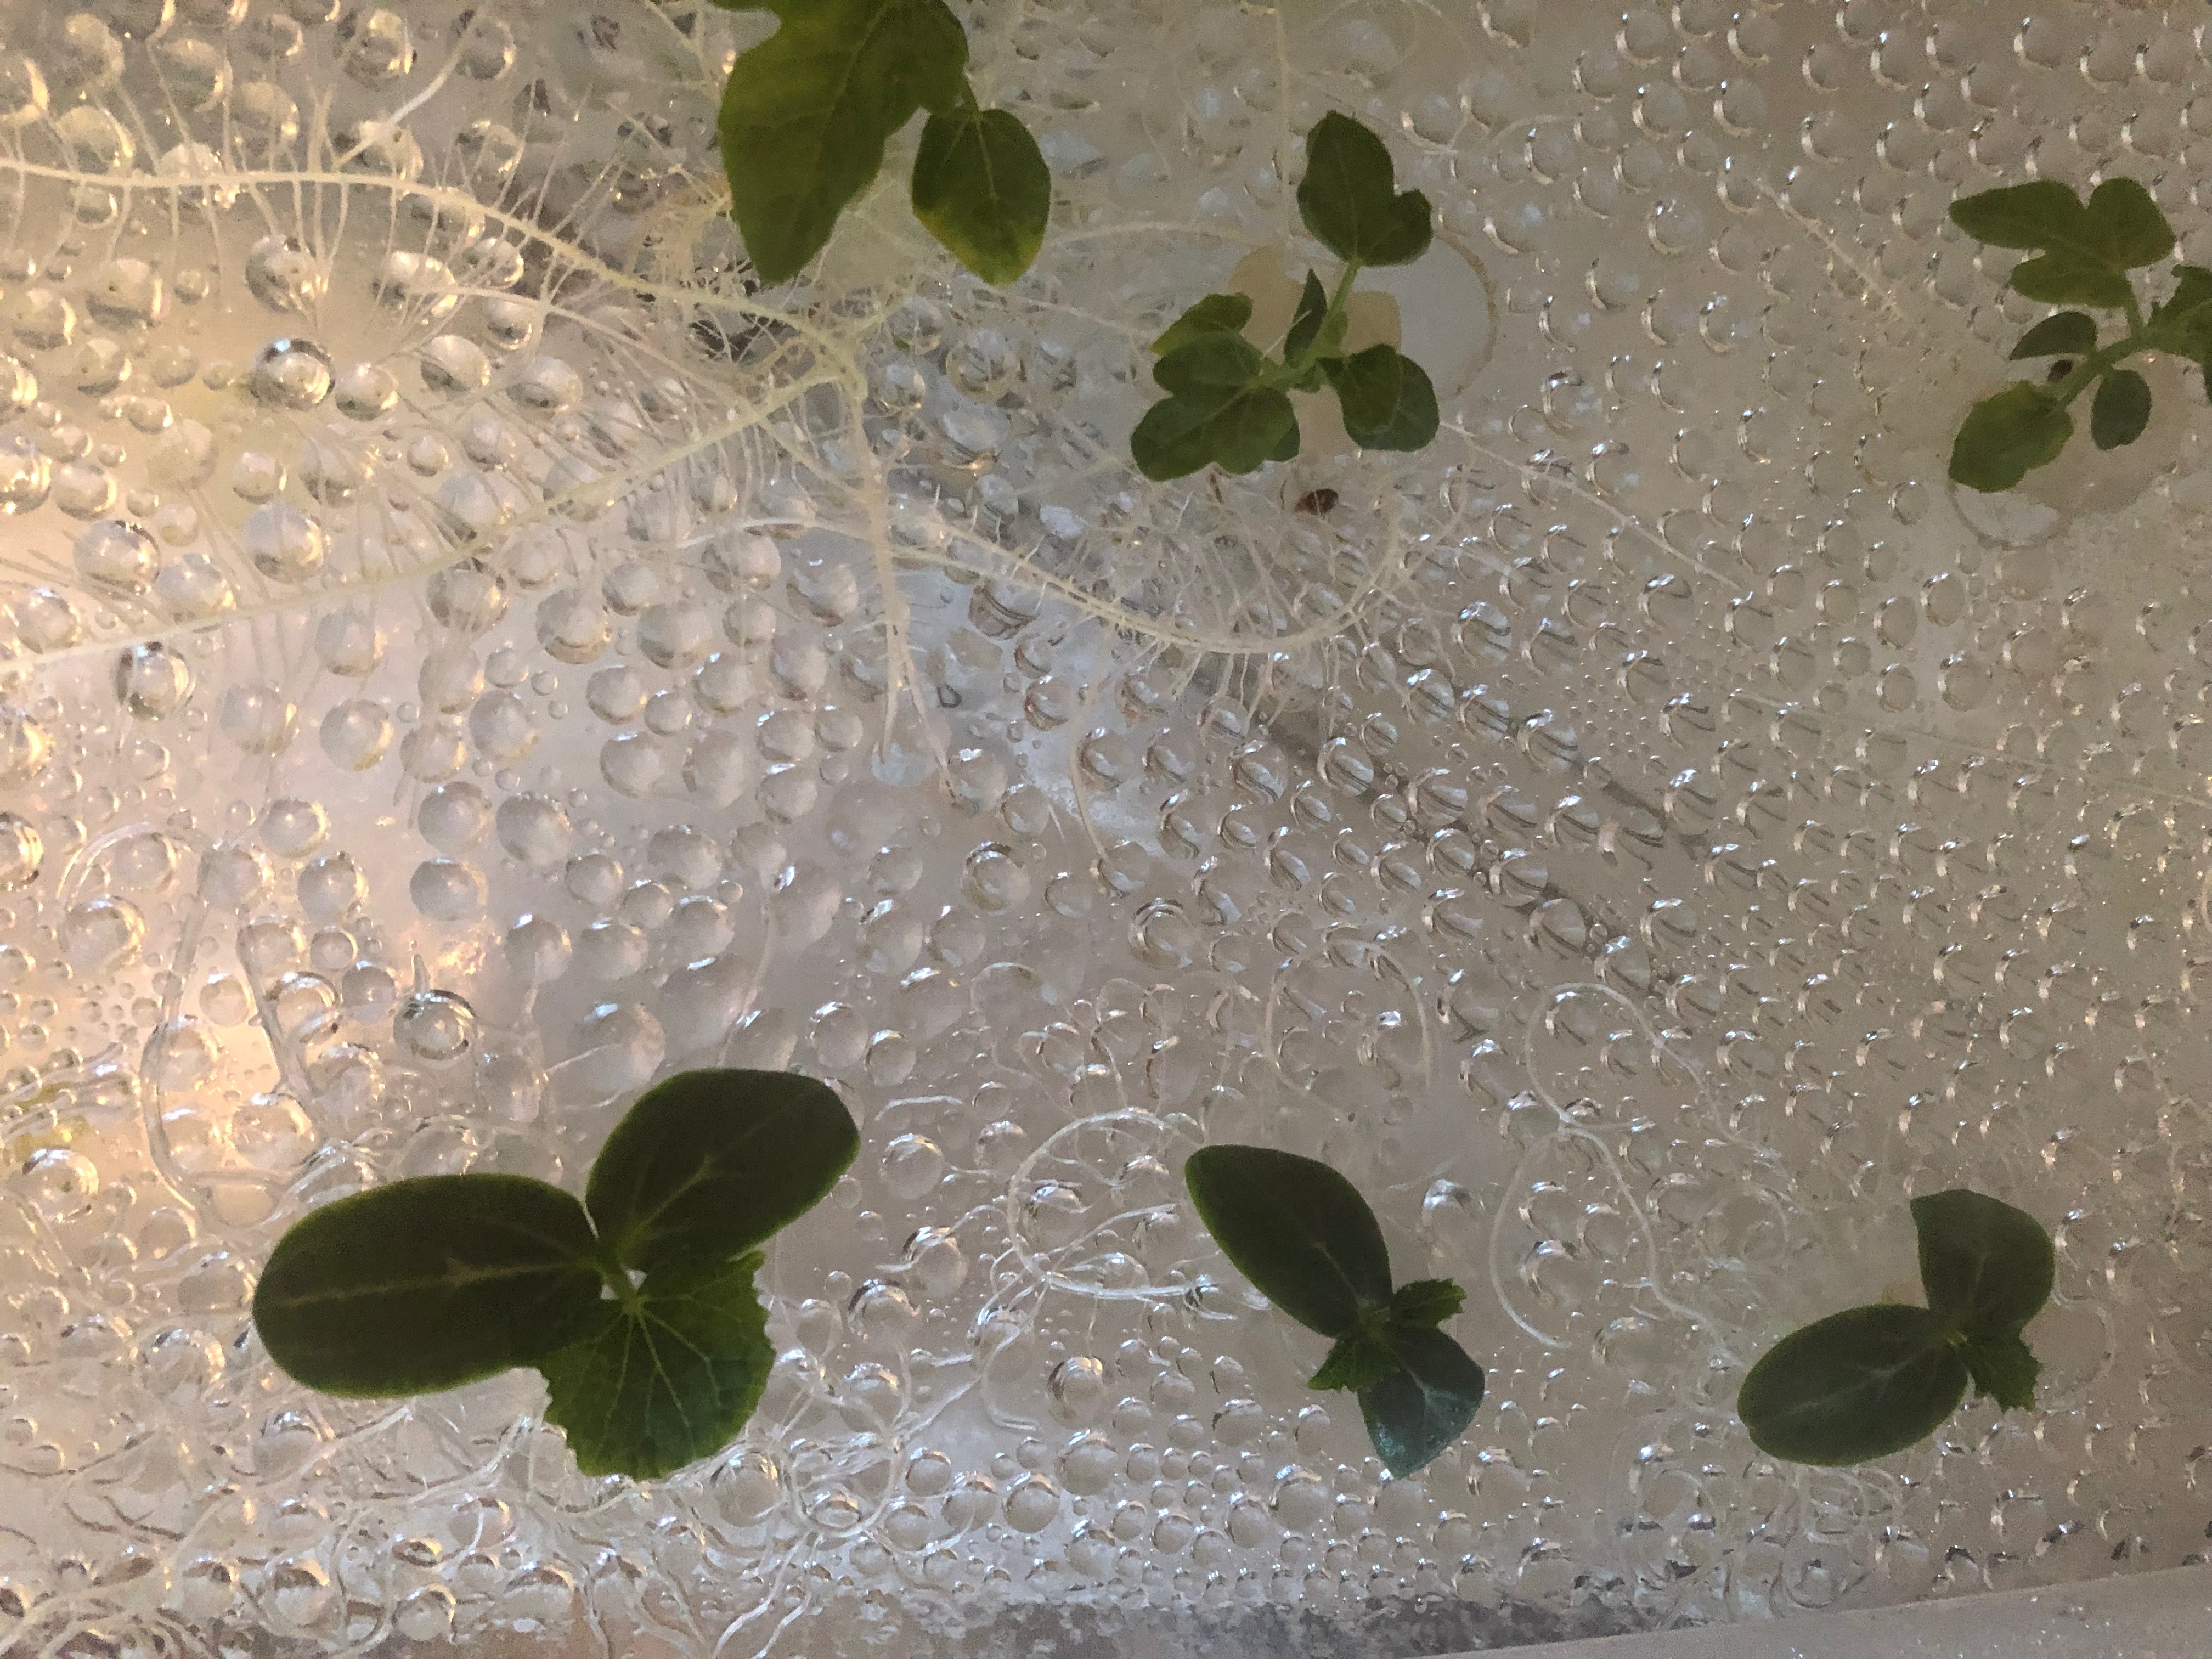lil_plant: (152, 1033, 923, 1547), (1106, 1063, 1555, 1600), (1655, 1103, 2142, 1546), (1853, 54, 2212, 599), (1106, 119, 1538, 565), (597, 3, 1054, 390)
